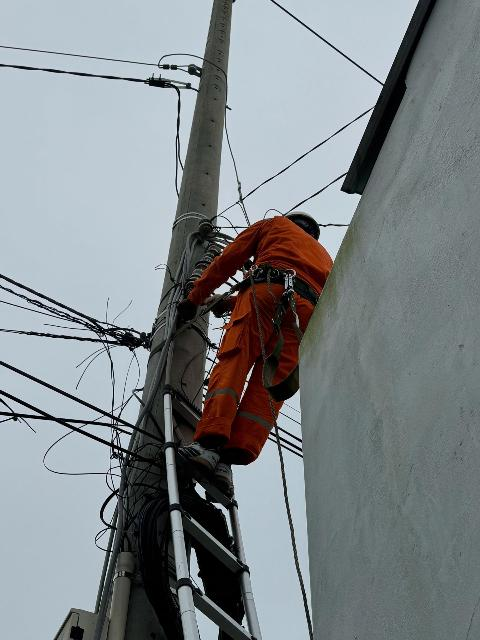gloves: (205, 289, 228, 322), (175, 301, 198, 328)
harness: (227, 253, 334, 312)
helmet: (278, 194, 331, 248)
shoes: (160, 426, 228, 483), (206, 443, 239, 491)
